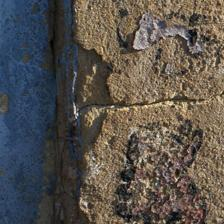Crack: (81, 14, 141, 55), (127, 0, 159, 60)
